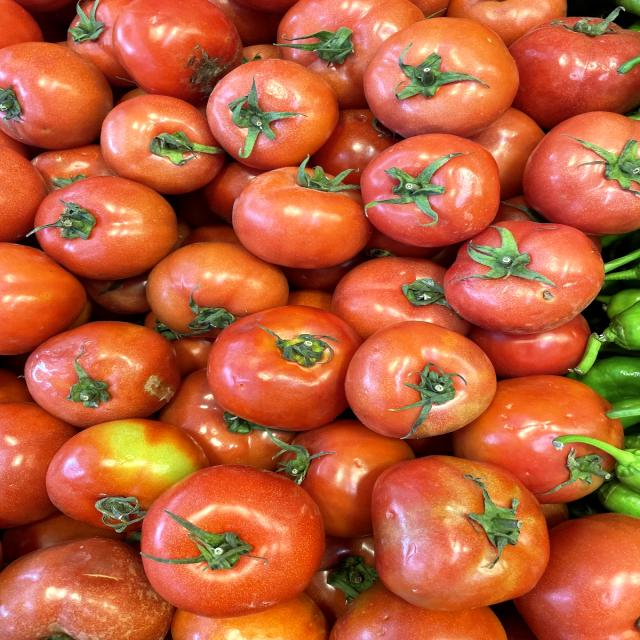tomato: (349, 443, 563, 610), (125, 461, 332, 618), (352, 16, 548, 145), (12, 309, 201, 427), (438, 208, 610, 336), (207, 298, 360, 425), (27, 166, 189, 283), (359, 126, 504, 250), (228, 150, 377, 270), (204, 61, 349, 164)
